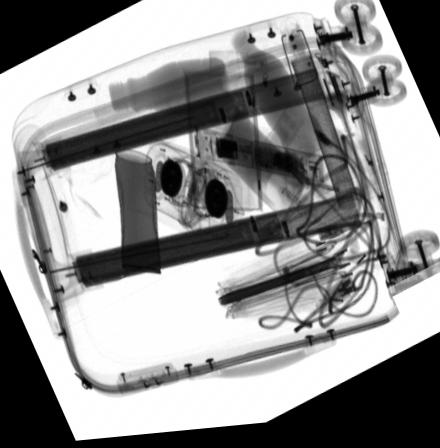Baton: (195, 131, 324, 194)
